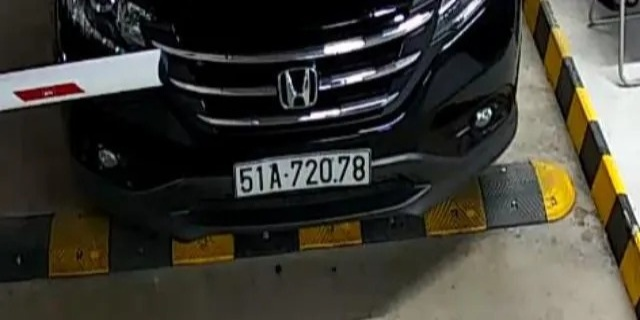bien_so: (235, 156, 368, 192)
